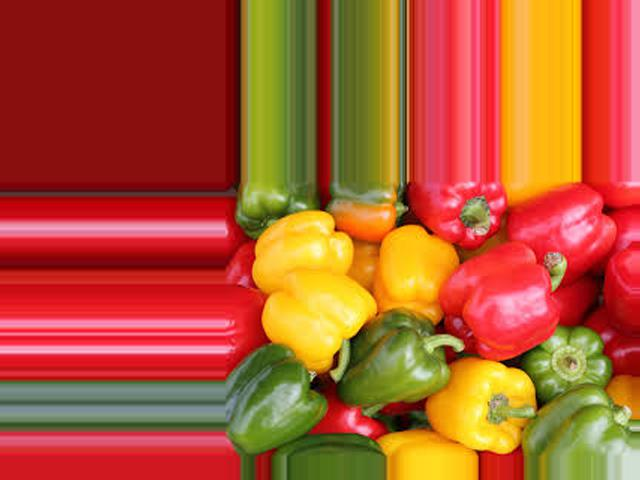bell_pepper: (237, 181, 327, 228)
